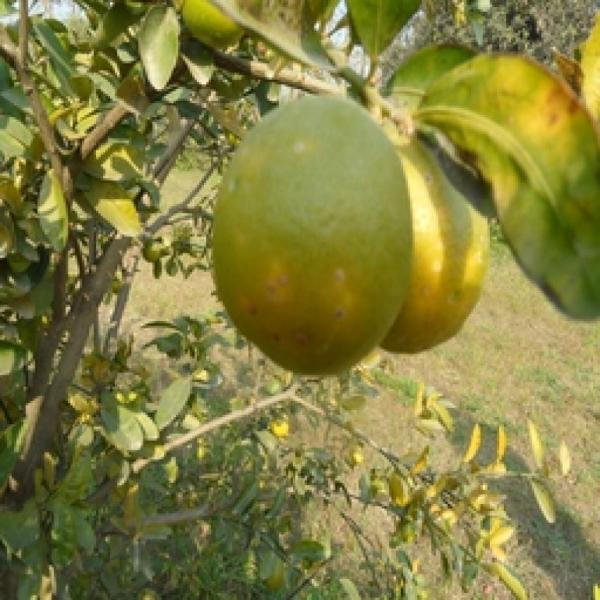Greening: (202, 90, 418, 382), (352, 125, 493, 377)
